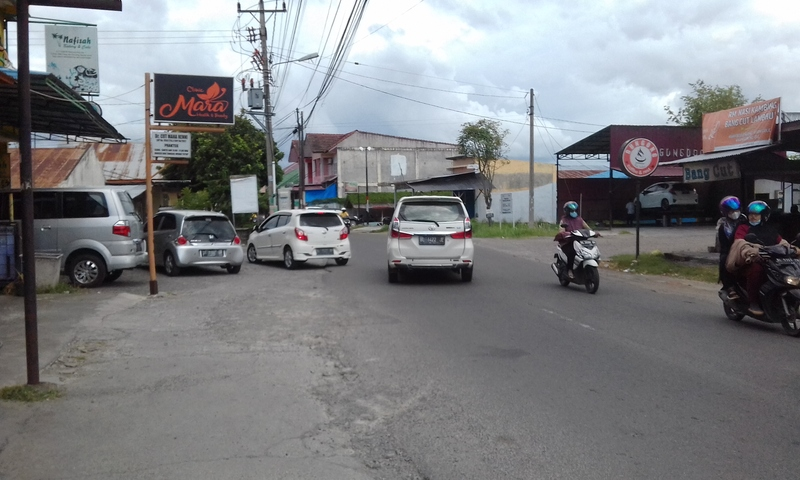car: (1, 183, 145, 291), (384, 190, 481, 288), (140, 206, 247, 279), (244, 207, 356, 273)
motorcycle: (713, 231, 800, 340), (551, 220, 609, 297)
person: (555, 200, 591, 275), (741, 198, 777, 267), (716, 198, 748, 265)
